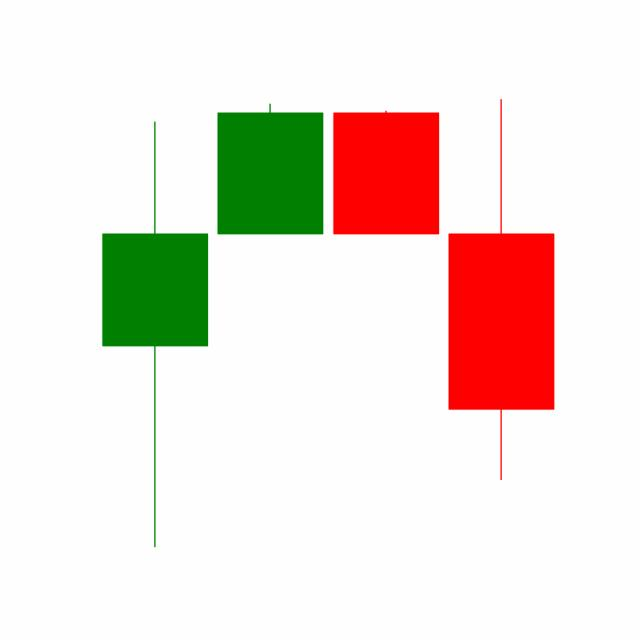Marubozu: (328, 109, 444, 235)
